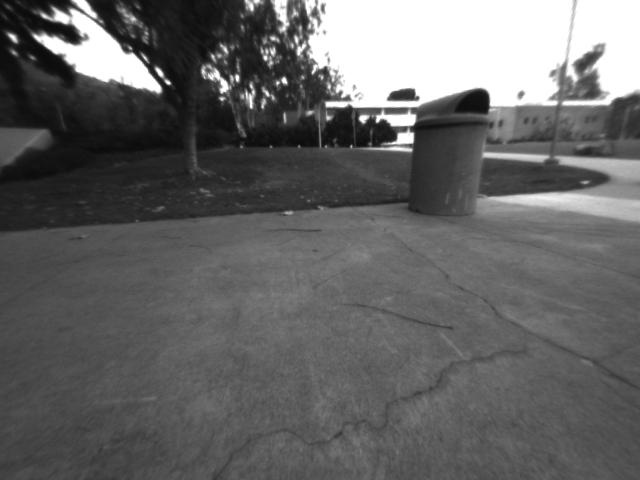trashcan: (406, 77, 497, 221)
